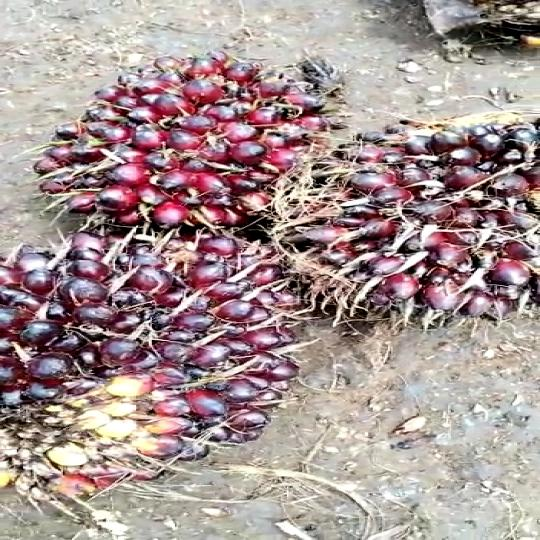kurang masak: (0, 229, 307, 504), (252, 100, 540, 340), (38, 56, 381, 249)
